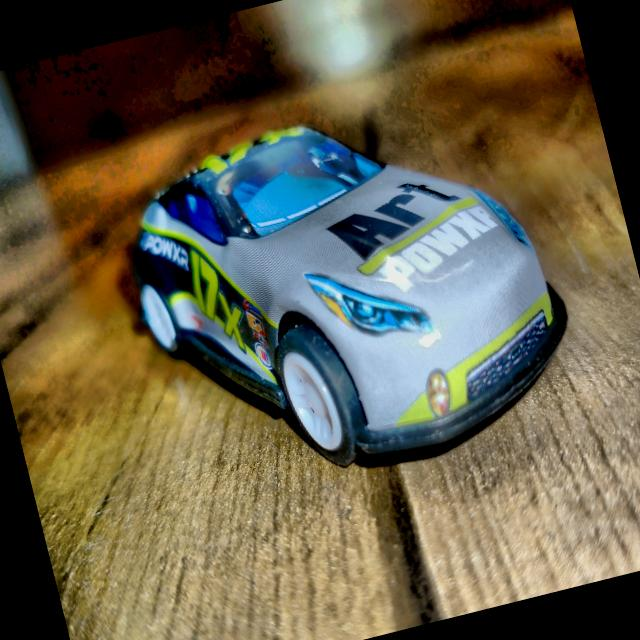Car: (90, 57, 602, 513)
